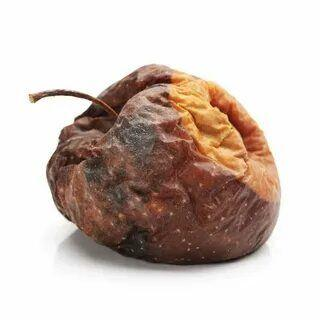Apple: (46, 65, 280, 264)
